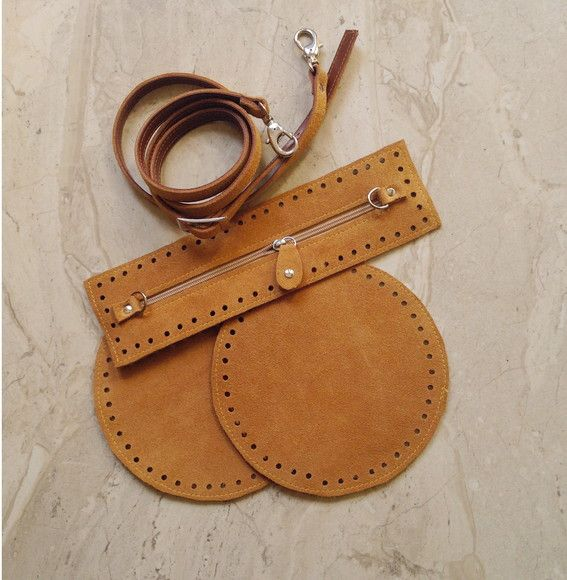cuero: (83, 29, 449, 504)
